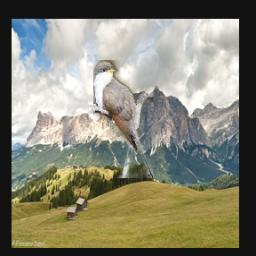Cuckoo: (93, 60, 154, 178)
